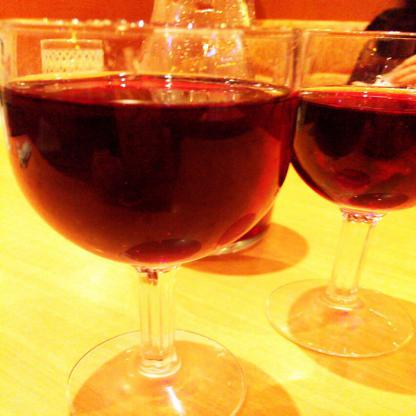drinking: (0, 20, 300, 416), (266, 29, 415, 359)
